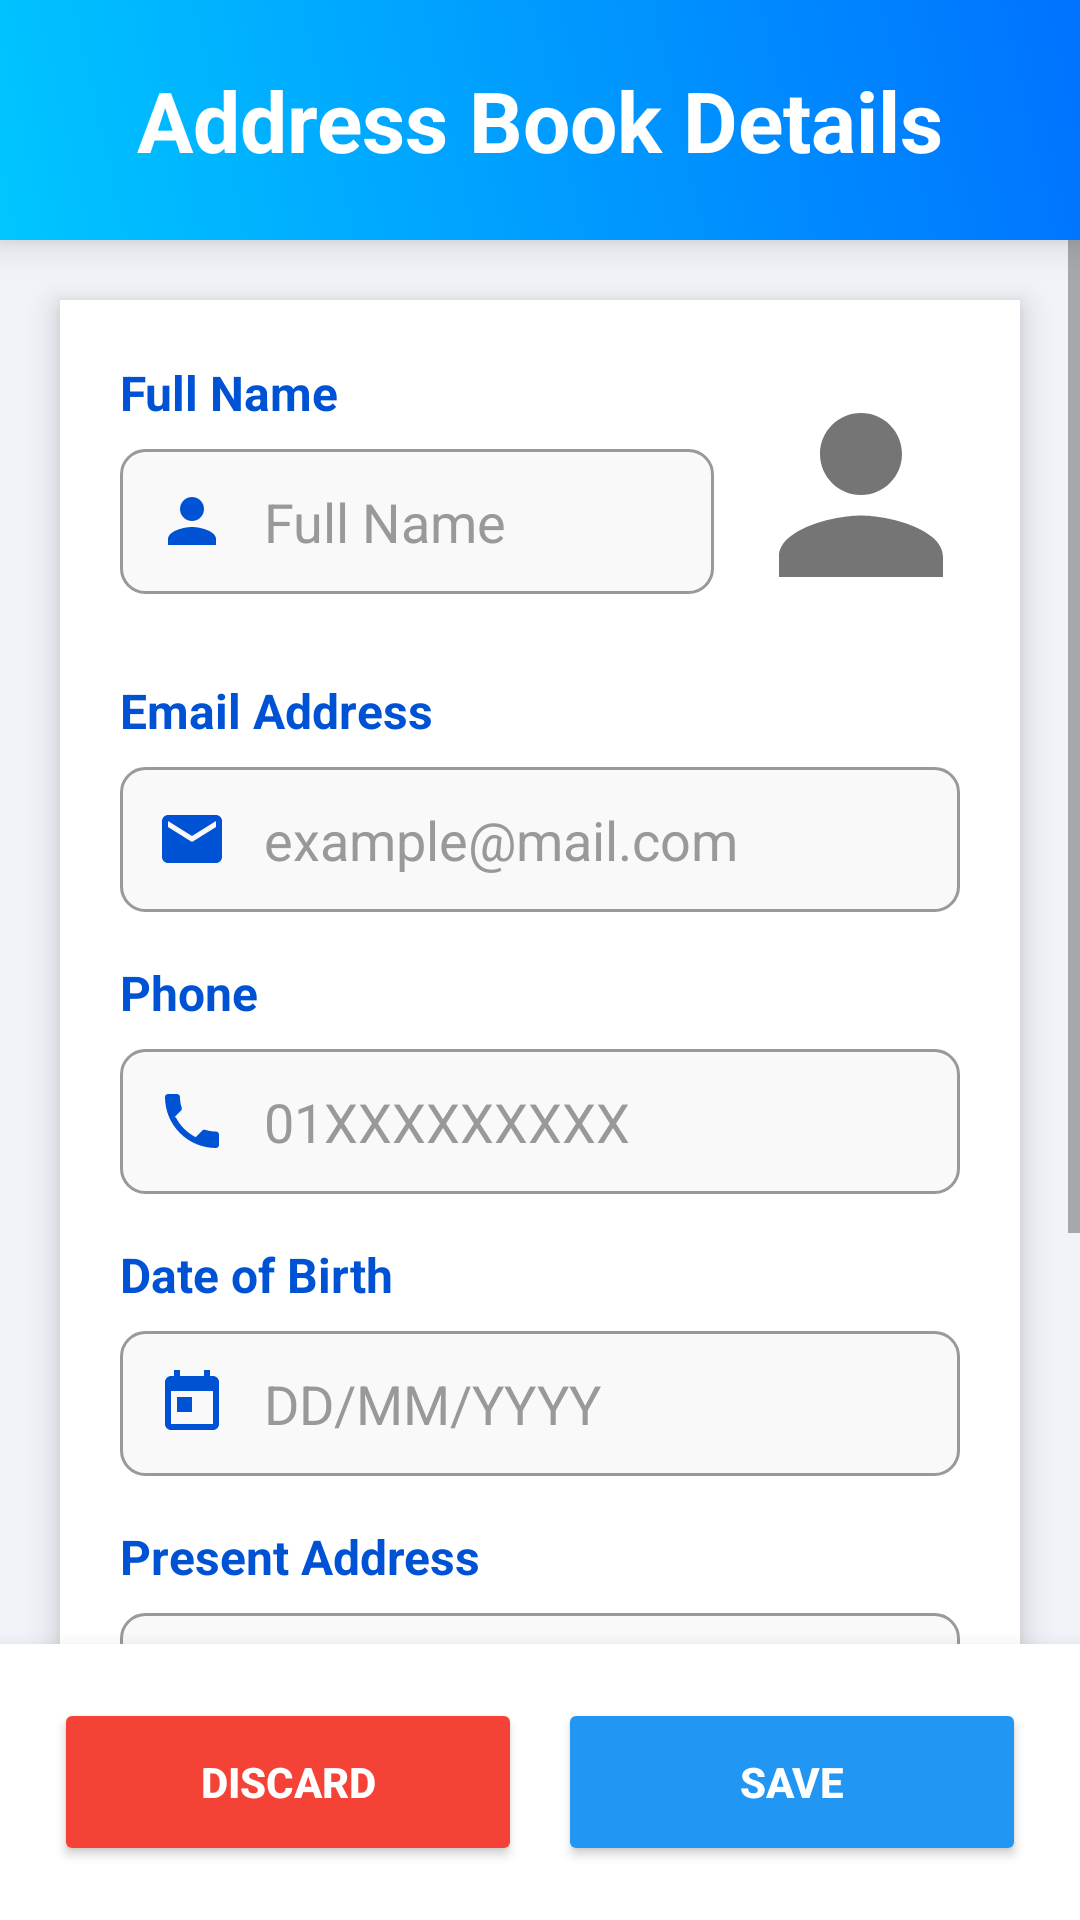

Icon click points for this 1080*1920 phone screenshot, format (x,y):
Profile Image: (861,495)
